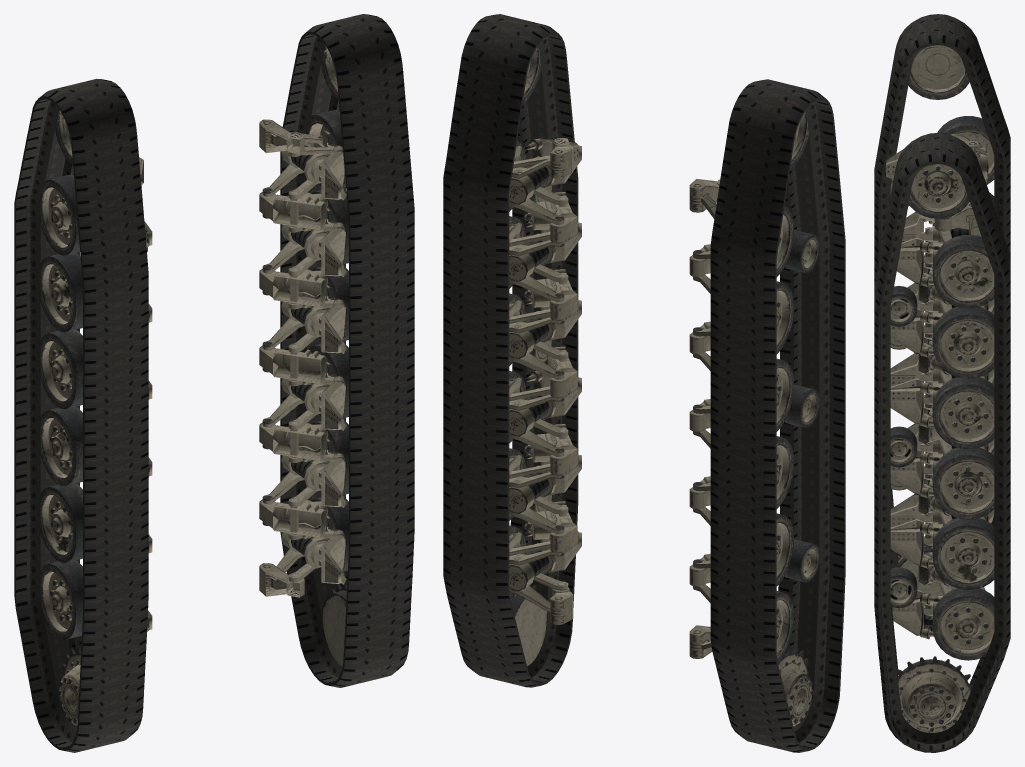
The model's file is Chassis.glb.
3 renders of one model, left to right at view 1: azimuth 30°, elevation 25°; view 2: azimuth 150°, elevation 25°; view 3: azimuth 270°, elevation 25°, orthographic. The views are drawn at different scales.
Visible parts, largest first — view 1: set_0_group_0, set_1_group_0, set_3_group_0, set_2_group_0; view 2: set_0_group_0, set_1_group_0, set_3_group_0, set_2_group_0; view 3: set_3_group_0, set_1_group_0, set_0_group_0, set_2_group_0.
Part boxes in pixels (x1,y1,x2,y2): set_0_group_0: (14,78,148,752); set_1_group_0: (280,14,414,687); set_3_group_0: (259,45,348,666); set_2_group_0: (40,110,152,727); set_0_group_0: (710,79,845,752); set_1_group_0: (443,14,578,687); set_3_group_0: (509,46,581,666); set_2_group_0: (689,111,819,727); set_3_group_0: (890,164,994,732); set_1_group_0: (874,132,1010,752); set_0_group_0: (874,14,1010,631); set_2_group_0: (886,45,994,606).
Bounding box in the file's own units: 2.69 × 5.1 × 1.05.
Materials: 4 (4 with a texture image).
